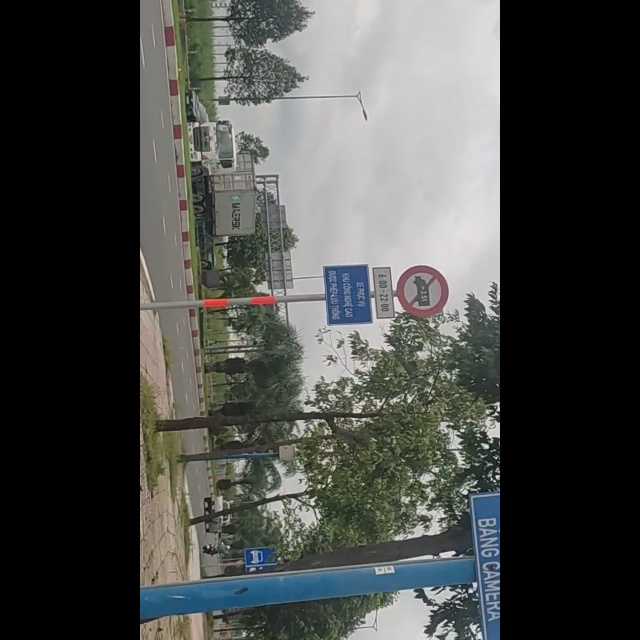bien_chi_dan: (455, 265, 548, 316)
